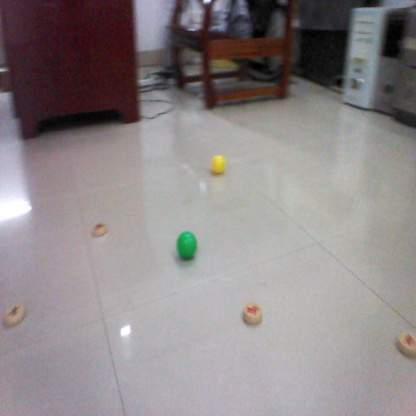ball: (172, 229, 199, 258), (208, 152, 229, 177)
chess: (391, 329, 416, 353), (5, 301, 28, 327), (242, 300, 264, 324), (88, 219, 110, 236)
